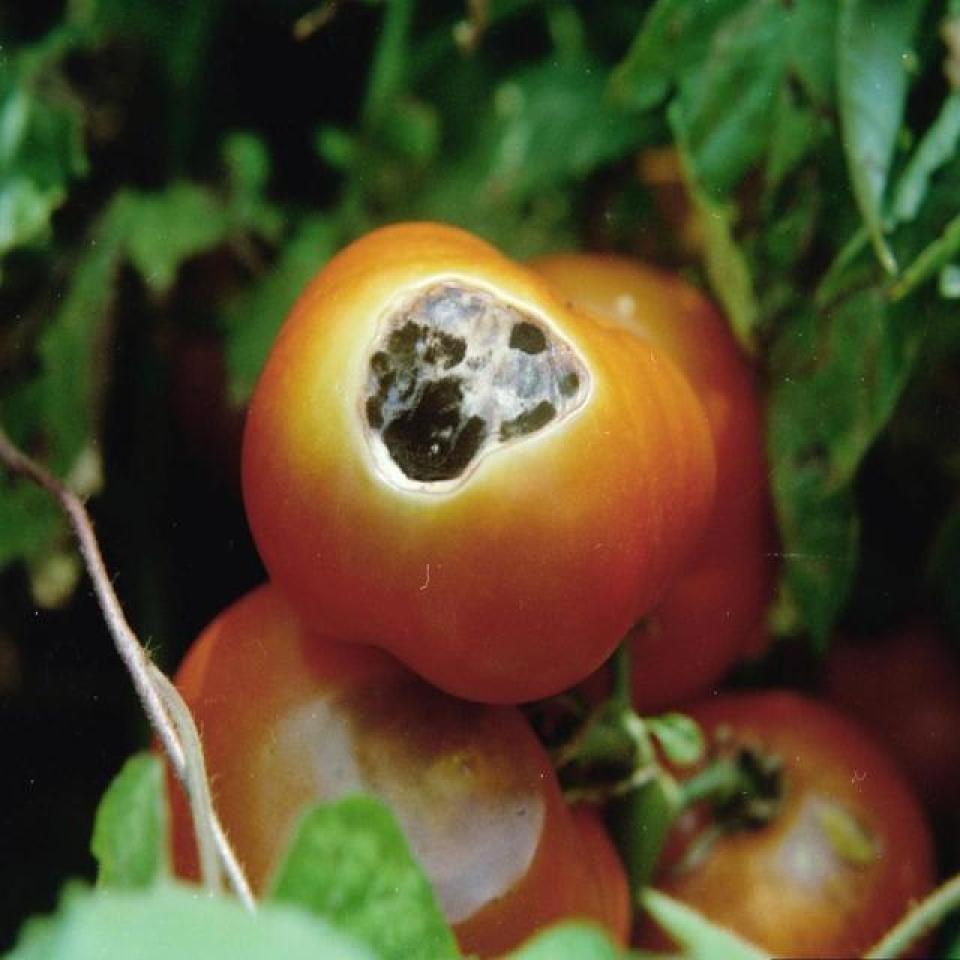Blossom_end_rot: (339, 253, 624, 536)
